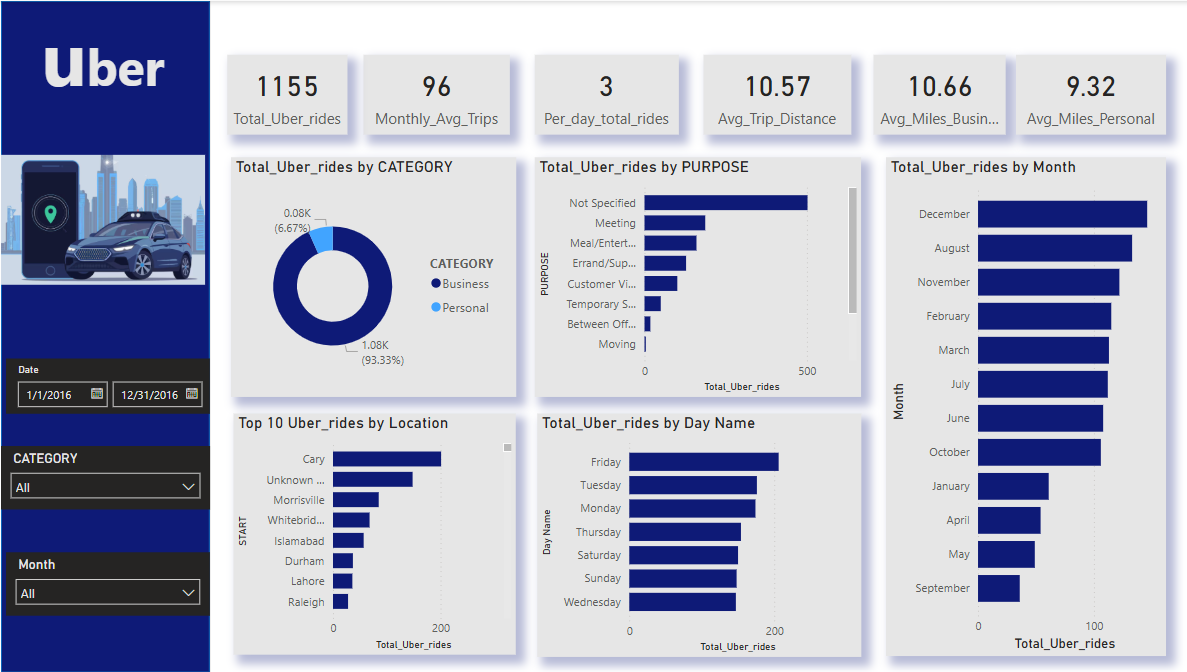

The dashboard page shown, as its layout file describes it:
{"tool":"powerbi","page":{"name":"Uber_Trip_overview","canvas":[1280,720],"ordinal":0},"visuals":[{"type":"shape","box":[5.4,0,223.6,720.5],"z":1000},{"type":"image","box":[0,127.2,229,214.3],"z":2000},{"type":"textbox","box":[0,0,229,127.2],"z":3000},{"type":"card","fields":{"Values":["UberDataset.Monthly_Avg_Trips"]},"box":[393.7,57.6,156.7,85.7],"z":4000},{"type":"card","fields":{"Values":["UberDataset.Per_day_total_rides"]},"box":[577.2,57.6,154,85.7],"z":6000},{"type":"donutChart","fields":{"Category":["UberDataset.CATEGORY"],"Y":["UberDataset.Total_Uber_rides"]},"box":[251.8,167.4,305.3,257.1],"z":7000},{"type":"barChart","fields":{"Category":["UberDataset.PURPOSE"],"Y":["UberDataset.Total_Uber_rides"]},"box":[577.2,167.4,349.5,257.1],"z":8000},{"type":"barChart","fields":{"Category":["UberDataset.Month"],"Y":["UberDataset.Total_Uber_rides"]},"box":[953.5,167.4,300,534.3],"z":9000},{"type":"barChart","title":"Top 10 Uber_rides by Location","fields":{"Category":["UberDataset.START"],"Y":["UberDataset.Total_Uber_rides"]},"box":[254.4,441.9,302.7,258.5],"z":10000},{"type":"barChart","fields":{"Category":["UberDataset.Day Name"],"Y":["UberDataset.Total_Uber_rides"]},"box":[579.9,441.9,346.9,261.1],"z":11000},{"type":"slicer","fields":{"Values":["UberDataset.Date"]},"box":[10.7,383,218.3,58.9],"z":12000},{"type":"slicer","fields":{"Values":["UberDataset.CATEGORY"]},"box":[5.4,476.8,223.6,68.3],"z":13000},{"type":"slicer","fields":{"Values":["UberDataset.Date.Variation.Date Hierarchy.Month"]},"box":[10.7,590.6,218.3,68.3],"z":14000},{"type":"card","fields":{"Values":["UberDataset.Total_Uber_rides"]},"box":[247.8,57.6,128.6,85.7],"z":15000},{"type":"card","fields":{"Values":["UberDataset.Avg_Trip_Distance"]},"box":[758,57.6,158,85.7],"z":15001},{"type":"card","fields":{"Values":["Trips_By_Purpose.Avg_Miles_Business"]},"box":[940.1,57.6,142,85.7],"z":15003},{"type":"card","fields":{"Values":["Trips_By_Purpose.Avg_Miles_Personal"]},"box":[1092.8,57.6,160.7,85.7],"z":15004}]}

Visuals, with their boxes in screenshot pixels (x1, y1, x2, y2), scaled from the page's 1280x720 canvas onto the 1187x672 screenshot:
shape: pyautogui.locateOnScreen(5, 0, 212, 671)
image: pyautogui.locateOnScreen(0, 119, 212, 319)
textbox: pyautogui.locateOnScreen(0, 0, 212, 119)
card - UberDataset.Monthly_Avg_Trips: pyautogui.locateOnScreen(365, 54, 510, 134)
card - UberDataset.Per_day_total_rides: pyautogui.locateOnScreen(535, 54, 678, 134)
donutChart - UberDataset.CATEGORY x UberDataset.Total_Uber_rides: pyautogui.locateOnScreen(234, 156, 517, 396)
barChart - UberDataset.PURPOSE x UberDataset.Total_Uber_rides: pyautogui.locateOnScreen(535, 156, 859, 396)
barChart - UberDataset.Month x UberDataset.Total_Uber_rides: pyautogui.locateOnScreen(884, 156, 1162, 655)
"Top 10 Uber_rides by Location" barChart: pyautogui.locateOnScreen(236, 412, 517, 654)
barChart - UberDataset.Day Name x UberDataset.Total_Uber_rides: pyautogui.locateOnScreen(538, 412, 859, 656)
slicer - UberDataset.Date: pyautogui.locateOnScreen(10, 357, 212, 412)
slicer - UberDataset.CATEGORY: pyautogui.locateOnScreen(5, 445, 212, 509)
slicer - UberDataset.Date.Variation.Date Hierarchy.Month: pyautogui.locateOnScreen(10, 551, 212, 615)
card - UberDataset.Total_Uber_rides: pyautogui.locateOnScreen(230, 54, 349, 134)
card - UberDataset.Avg_Trip_Distance: pyautogui.locateOnScreen(703, 54, 849, 134)
card - Trips_By_Purpose.Avg_Miles_Business: pyautogui.locateOnScreen(872, 54, 1003, 134)
card - Trips_By_Purpose.Avg_Miles_Personal: pyautogui.locateOnScreen(1013, 54, 1162, 134)
